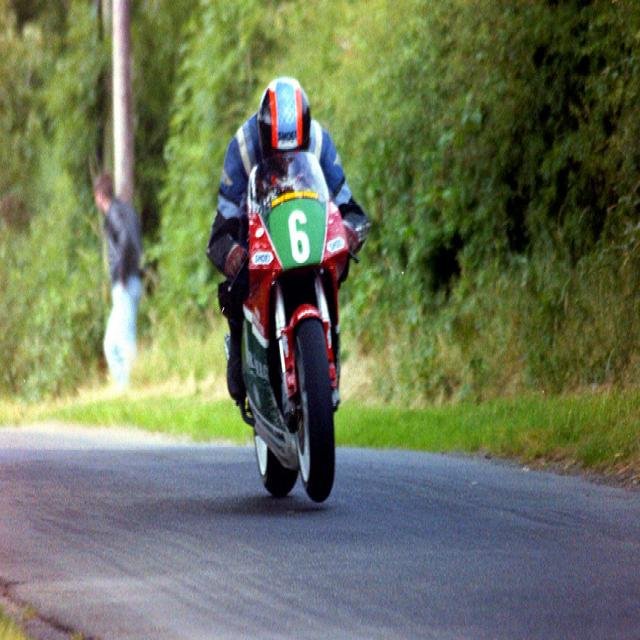motor: (215, 152, 367, 500)
